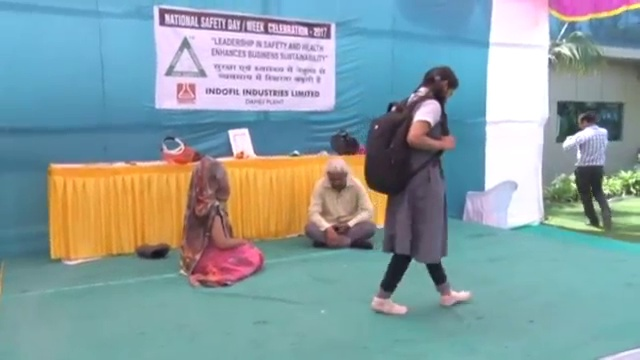helmet_off: (189, 162, 231, 201), (422, 66, 459, 102), (324, 160, 350, 190), (576, 112, 596, 130)
person: (365, 66, 470, 317), (179, 157, 264, 289), (303, 158, 378, 249), (563, 113, 614, 232)
